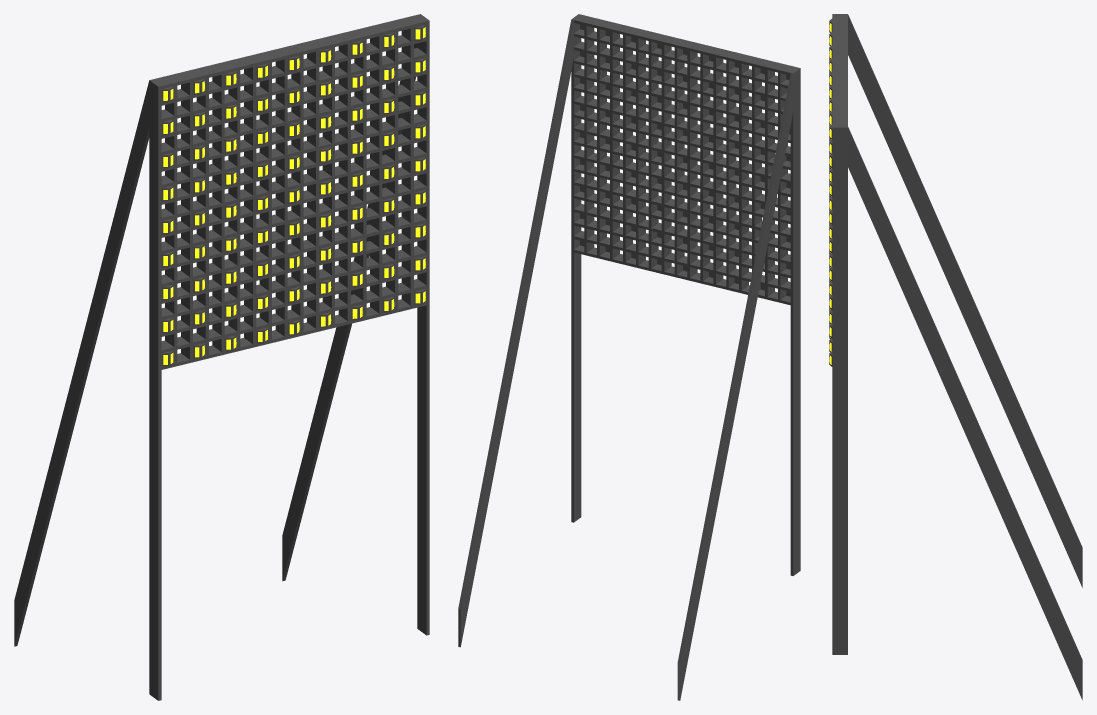
The model's file is TiedSign.fbx.
The picture shows the model from 3 angles, left to right: view 1: azimuth 30°, elevation 25°; view 2: azimuth 150°, elevation 25°; view 3: azimuth 270°, elevation 25°; orthographic projection. The views are drawn at different scales.
Parts seen in each view (by area): view 1: Base, All, Faster; view 2: Base; view 3: Base, All.
Part boxes in pixels (<box>): Base: <box>14,14,429,700</box>; All: <box>163,27,425,364</box>; Faster: <box>195,58,393,334</box>; Base: <box>458,14,800,700</box>; Base: <box>829,14,1082,700</box>; All: <box>829,23,831,364</box>.
Bounding box in the file's own units: 8.65 × 20.2 × 8.1.
